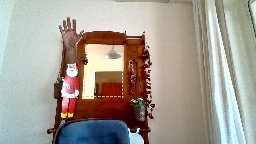Mano_aperta: (56, 15, 84, 51)
